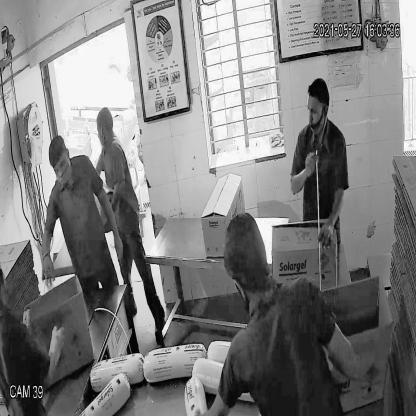no_goggles: (50, 154, 71, 178), (305, 101, 329, 121)
